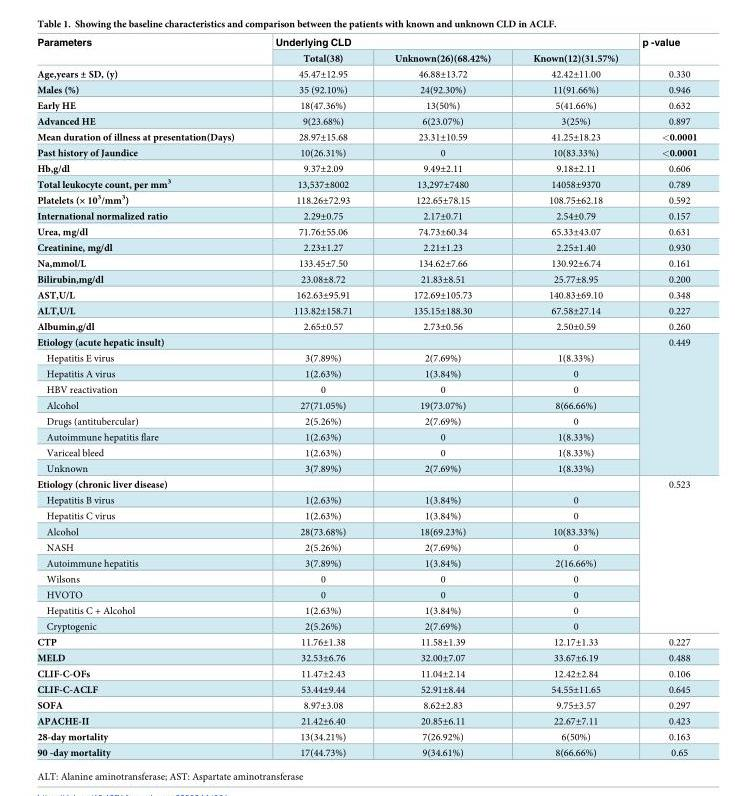table: (36, 37, 696, 757)
table column: (36, 37, 254, 757), (372, 37, 511, 757), (254, 37, 372, 757), (511, 37, 629, 757), (629, 37, 696, 757)
table column header: (36, 37, 696, 65)
table row: (36, 65, 696, 82), (36, 128, 696, 145), (36, 159, 696, 176), (36, 712, 696, 729), (36, 97, 696, 113), (36, 191, 696, 207), (36, 207, 696, 223), (36, 223, 696, 239), (36, 239, 696, 255), (36, 270, 696, 286), (36, 286, 696, 302), (36, 302, 696, 318), (36, 318, 696, 334), (36, 334, 696, 350), (36, 365, 696, 381), (36, 381, 696, 397), (36, 397, 696, 413), (36, 413, 696, 429), (36, 444, 696, 460), (36, 460, 696, 476), (36, 476, 696, 492), (36, 507, 696, 523), (36, 523, 696, 539), (36, 539, 696, 555), (36, 555, 696, 571), (36, 586, 696, 602), (36, 602, 696, 618), (36, 633, 696, 649), (36, 649, 696, 665), (36, 665, 696, 681), (36, 681, 696, 697), (36, 50, 696, 65), (36, 82, 696, 97), (36, 113, 696, 128), (36, 176, 696, 191), (36, 255, 696, 270), (36, 350, 696, 365), (36, 429, 696, 444), (36, 492, 696, 507), (36, 571, 696, 586), (36, 618, 696, 633), (36, 697, 696, 712), (36, 729, 696, 744), (36, 145, 696, 159), (36, 37, 696, 50), (36, 744, 696, 757)
table spanning cell: (629, 476, 696, 633), (629, 334, 696, 476), (36, 334, 629, 350), (36, 476, 629, 492), (36, 37, 254, 65), (254, 37, 629, 50), (629, 37, 696, 65)
